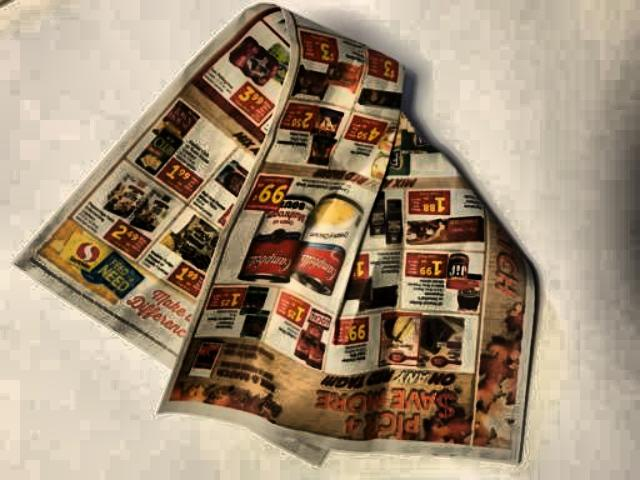Paper: (8, 11, 540, 468)
